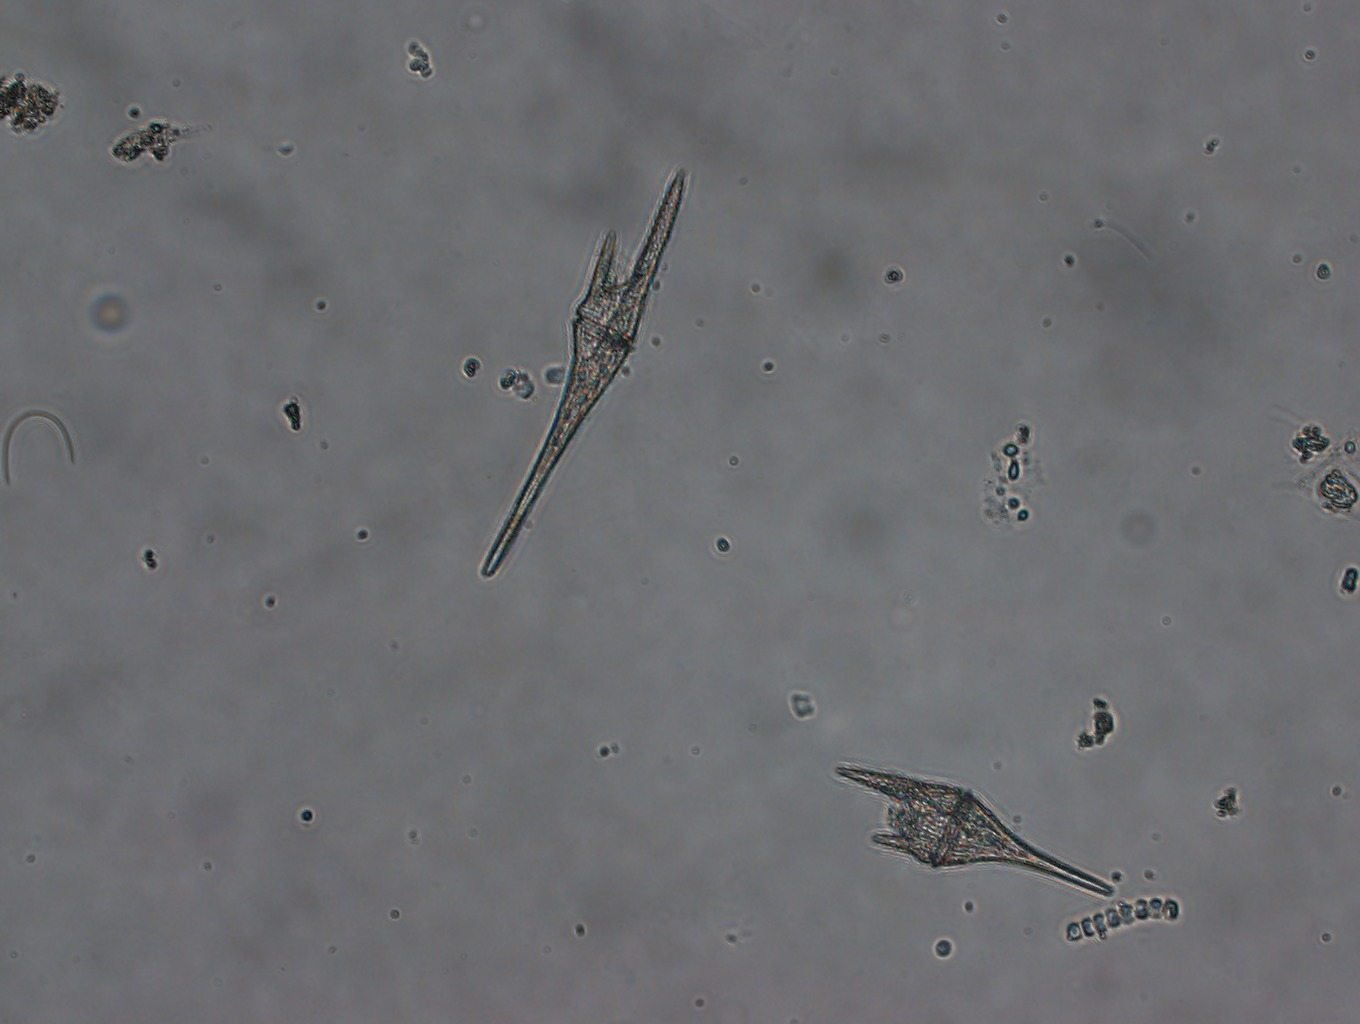ceratium furca: (479, 163, 686, 582), (831, 760, 1121, 900)
skeletonema: (1063, 893, 1184, 945)
